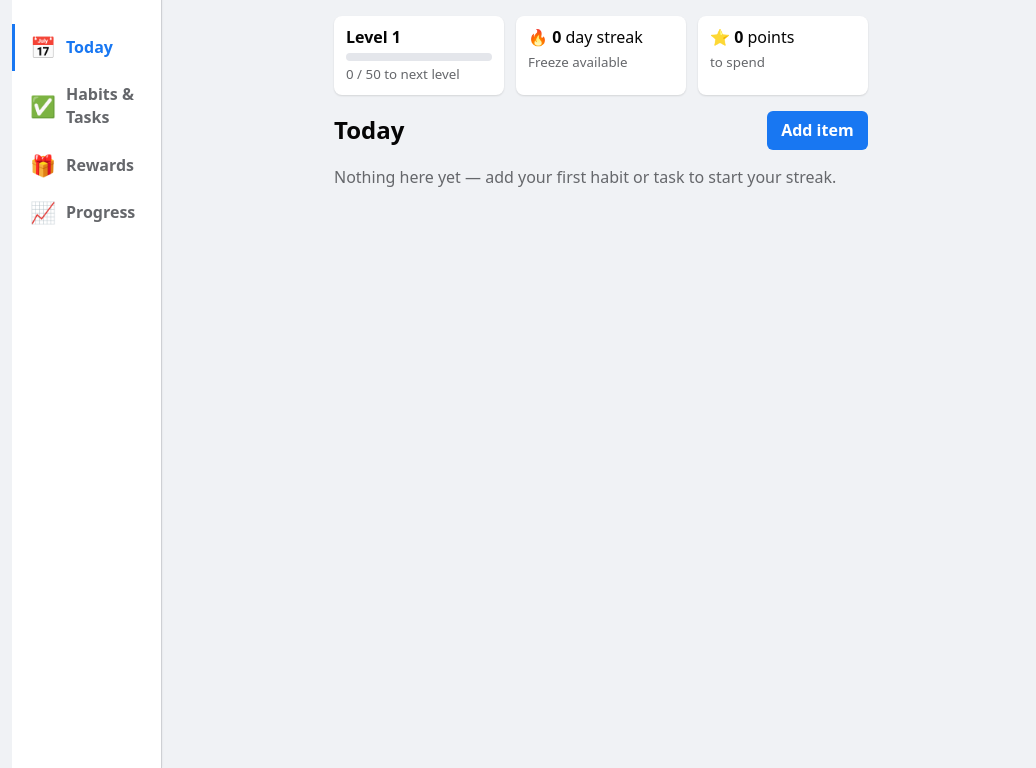
Today screen › adds a task, completes it, and updates points and streak; un-checking removes them
Click the button "Add item".
click(817, 130)  # box [767,110,868,150]
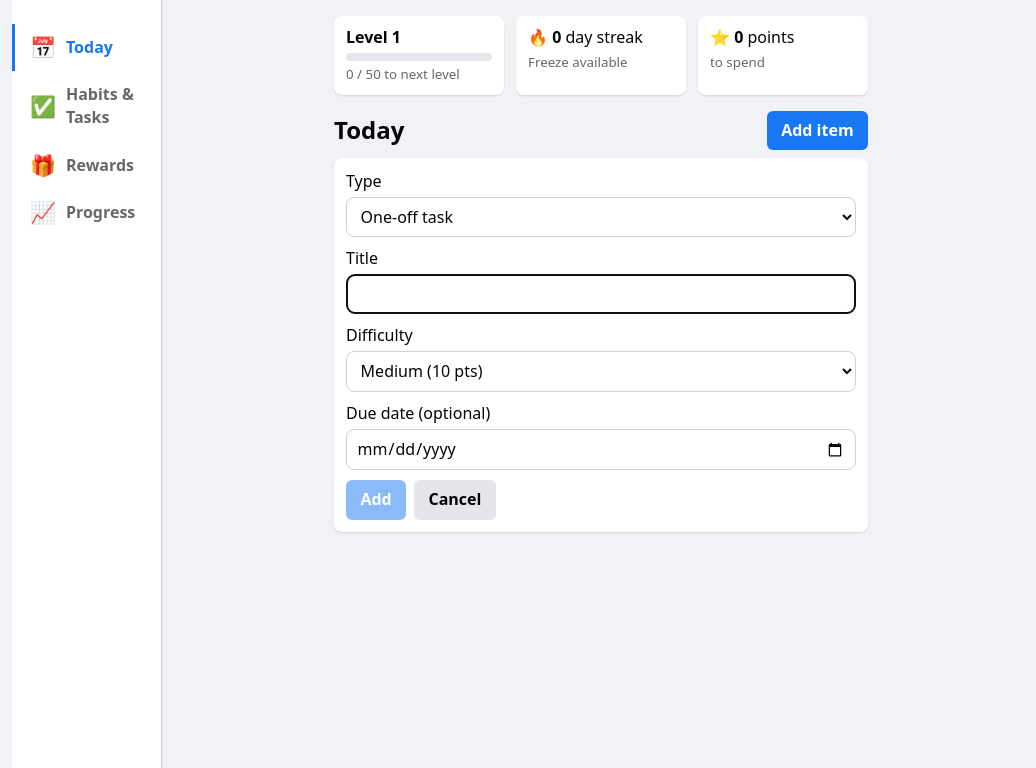
Type "Write report" into the field labelled "Title".
click(601, 294); type("Write report")  # box [346,274,856,314]
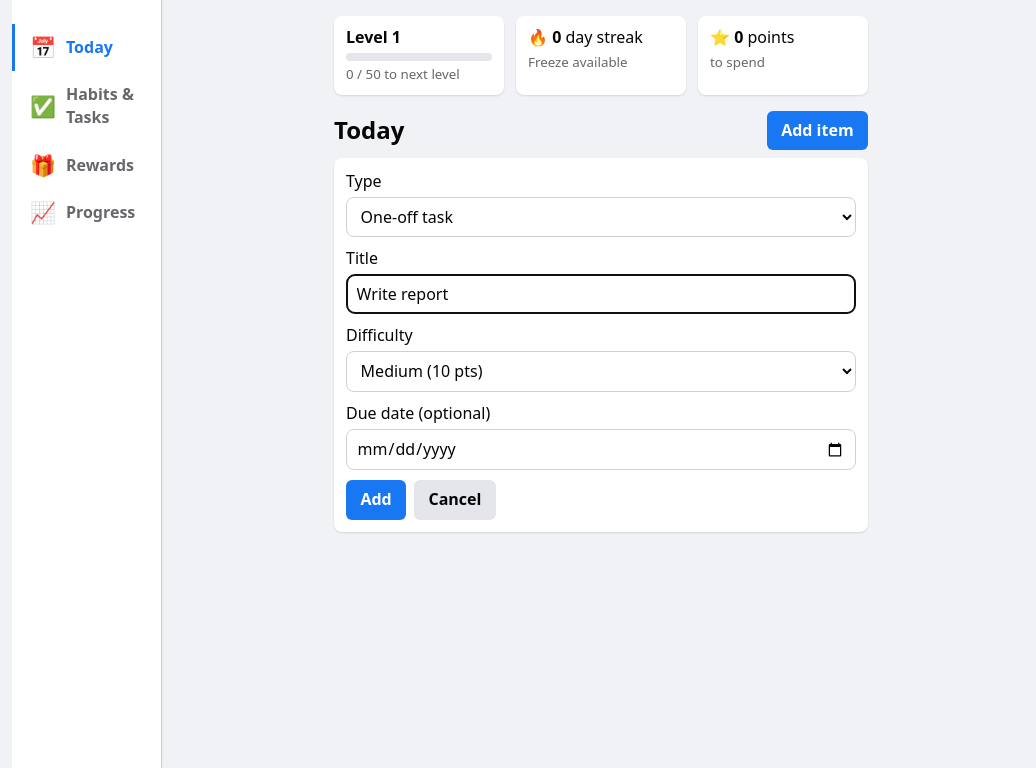
Select "Hard (20 pts)" in the dropdown labelled "Difficulty" at [601, 371], box [346,351,856,392]
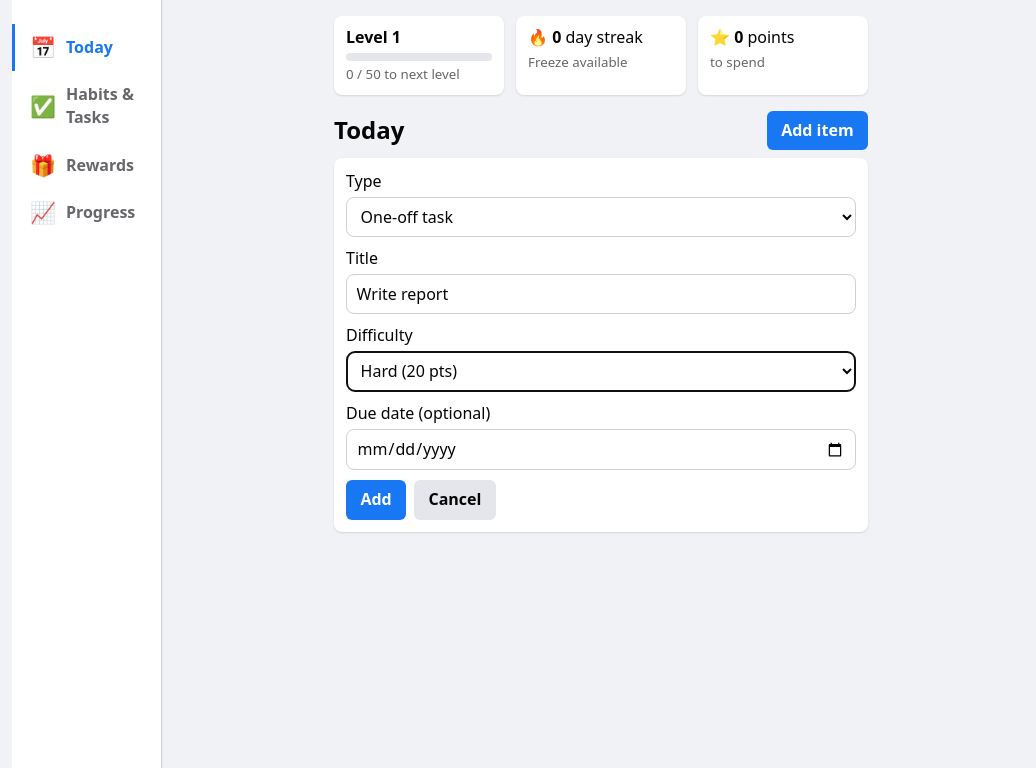
Click the button "Add".
click(376, 500)  # box [346,480,406,520]
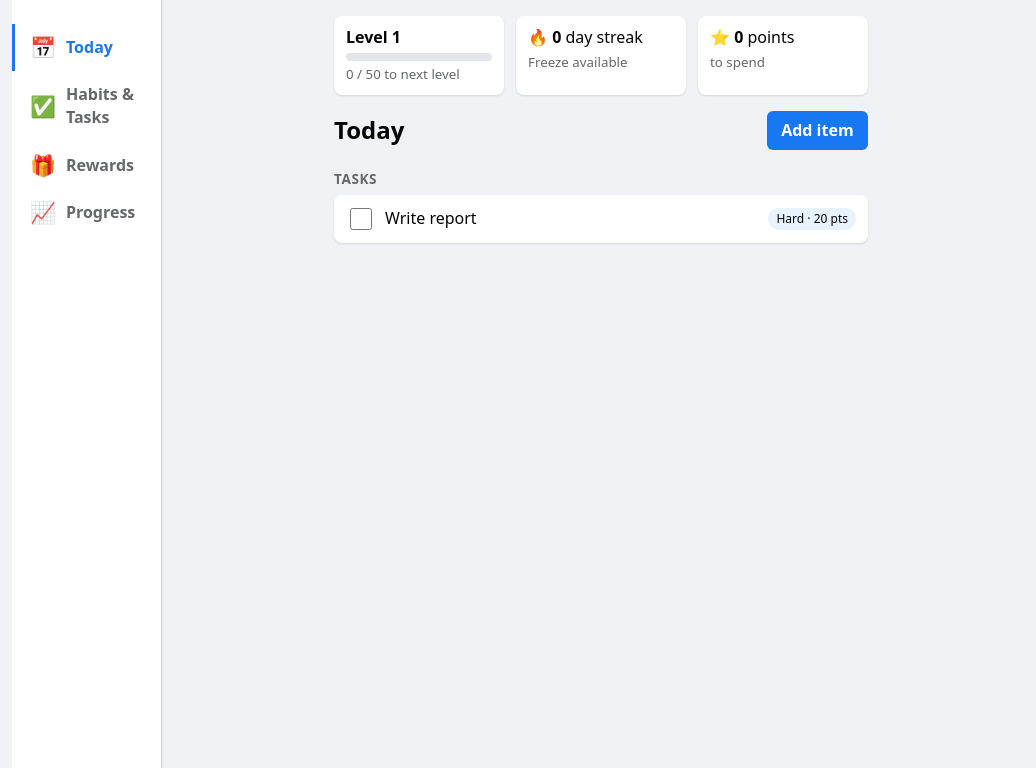
Expected: the checkbox labelled "Write report Hard · 20 pts" is not checked
Click the checkbox labelled "Write report Hard · 20 pts".
click(361, 219)  # box [350,208,372,230]
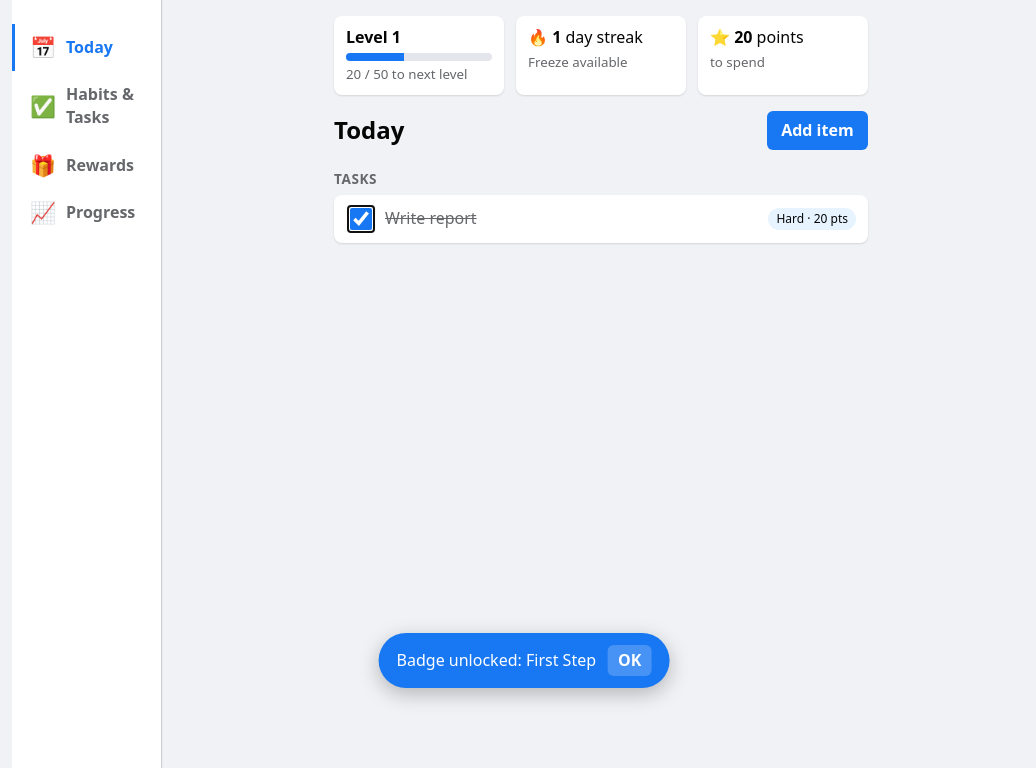
Expected: the checkbox labelled "Write report Hard · 20 pts" is checked
Expected: the text with test id "balance" reads "20", [734,26,752,48]
Expected: the text with test id "streak" reads "1", [552,26,561,48]
Click the checkbox labelled "Write report Hard · 20 pts".
click(361, 219)  # box [350,208,372,230]
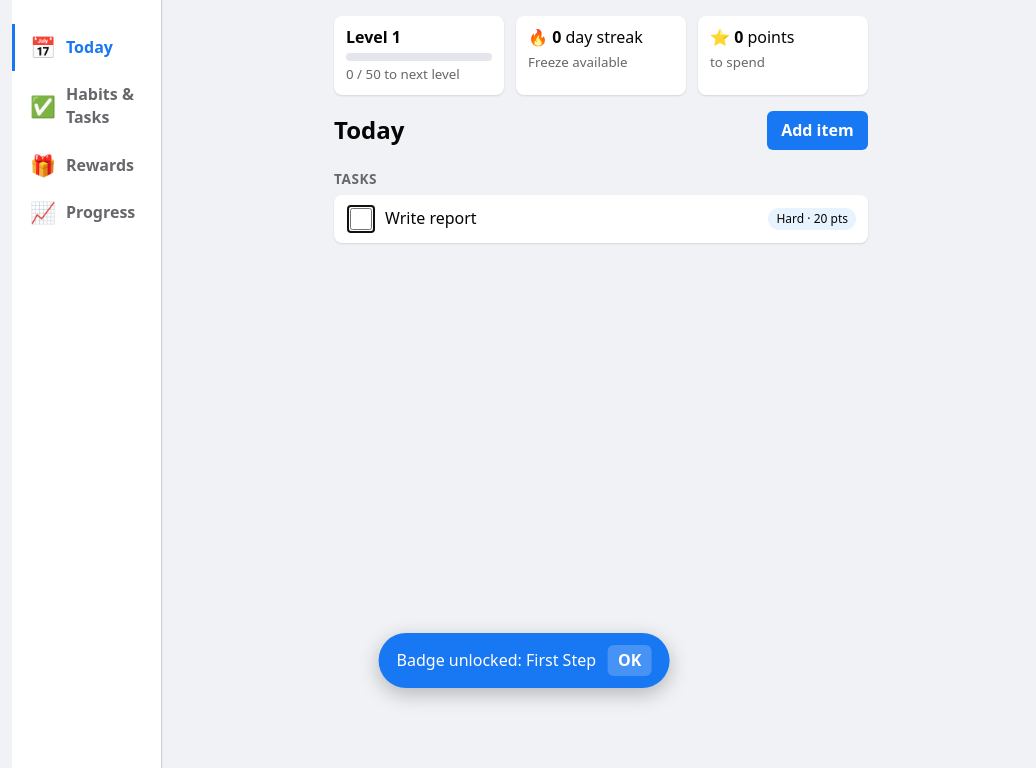
Expected: the text with test id "balance" reads "0", [734,26,743,48]
